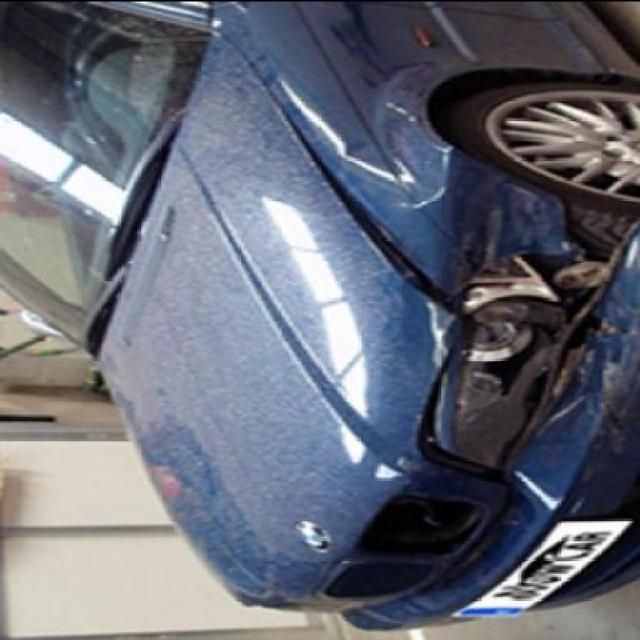damage: (237, 46, 457, 316), (451, 148, 639, 462), (563, 309, 639, 441)
